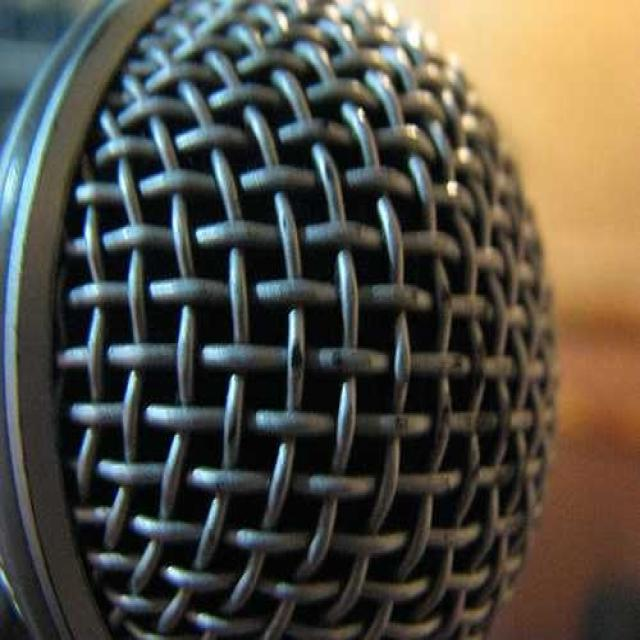microphone: (0, 18, 544, 640)
